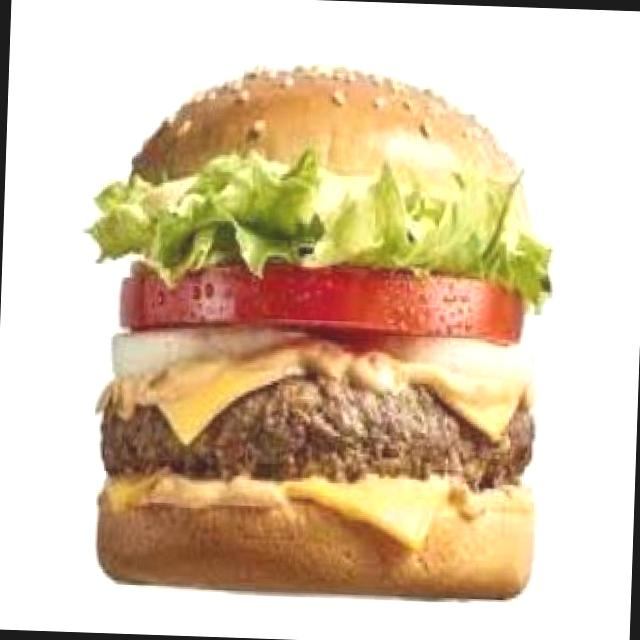Burger: (76, 51, 561, 604)
